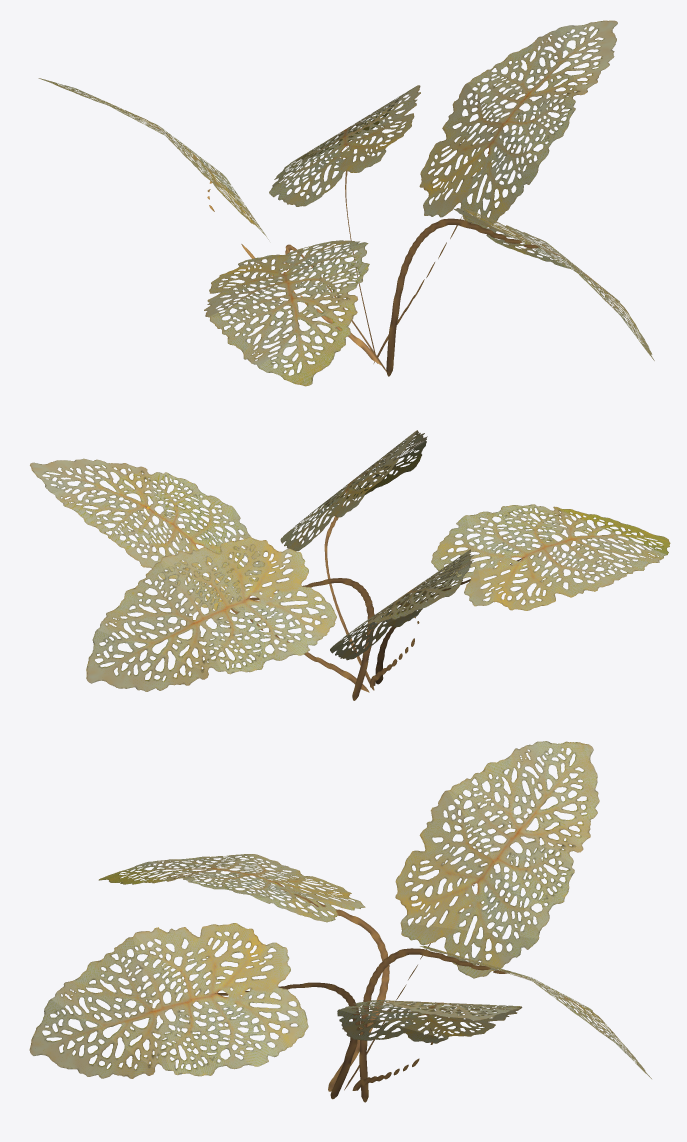
The model's file is Spin Reef A1.fbx.
3 renders of one model, top to bottom at view 1: azimuth 30°, elevation 25°; view 2: azimuth 150°, elevation 25°; view 3: azimuth 270°, elevation 25°, orthographic. The views are drawn at different scales.
Visible parts, largest first — view 1: Spin Reef A1; view 2: Spin Reef A1; view 3: Spin Reef A1.
Part boxes in pixels (left/top/right/bottom): Spin Reef A1: left=38, top=20, right=654, bottom=386; Spin Reef A1: left=30, top=430, right=670, bottom=700; Spin Reef A1: left=29, top=741, right=651, bottom=1102.
Size of the model in its own units: 159 by 76.96 by 167.
